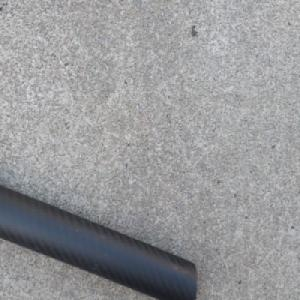LuggagePart: (0, 183, 198, 300)
